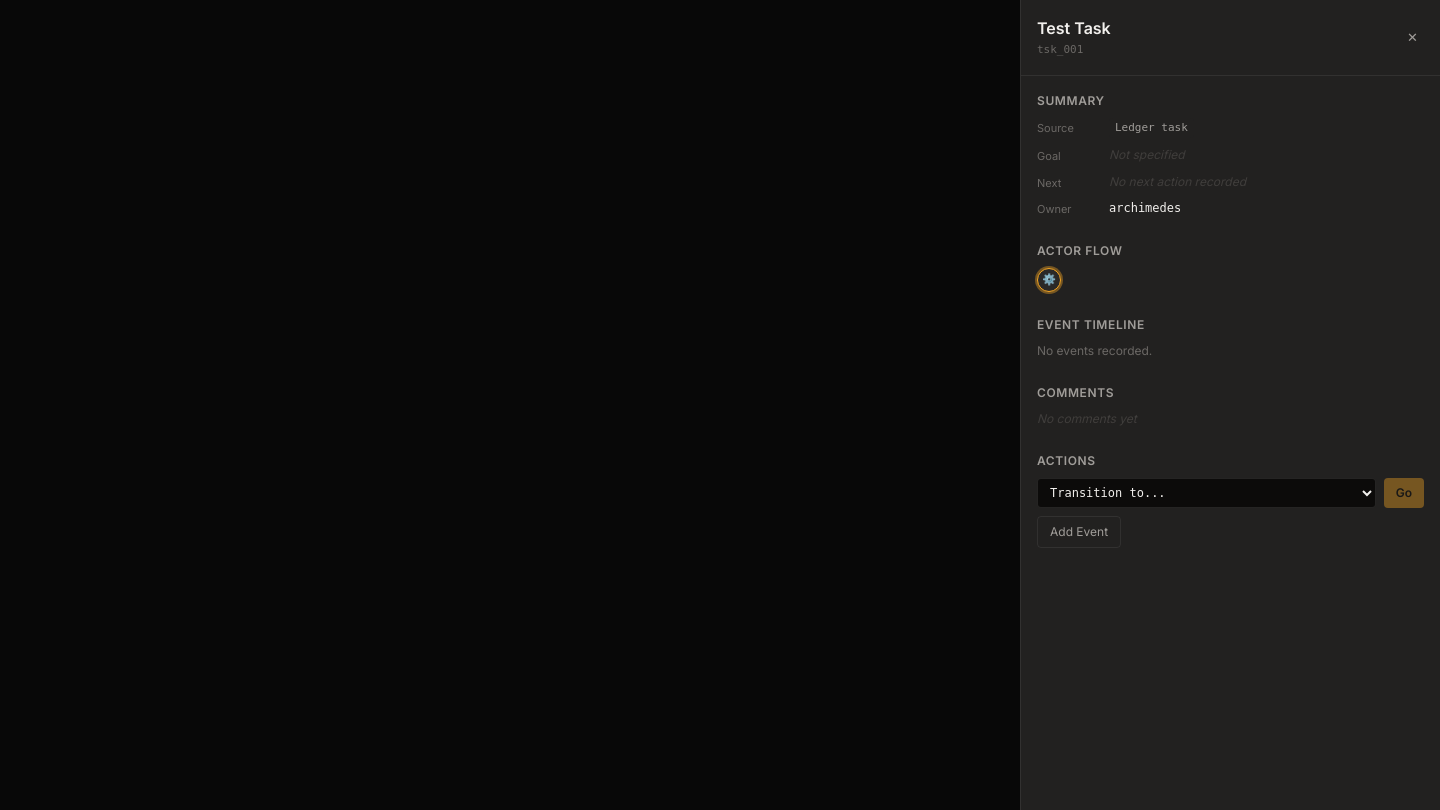
Test: TaskDetail Add Event › shows error and keeps textarea open on failure
Click the button "Add Event" at (1079, 532), box [1037, 516, 1121, 548]
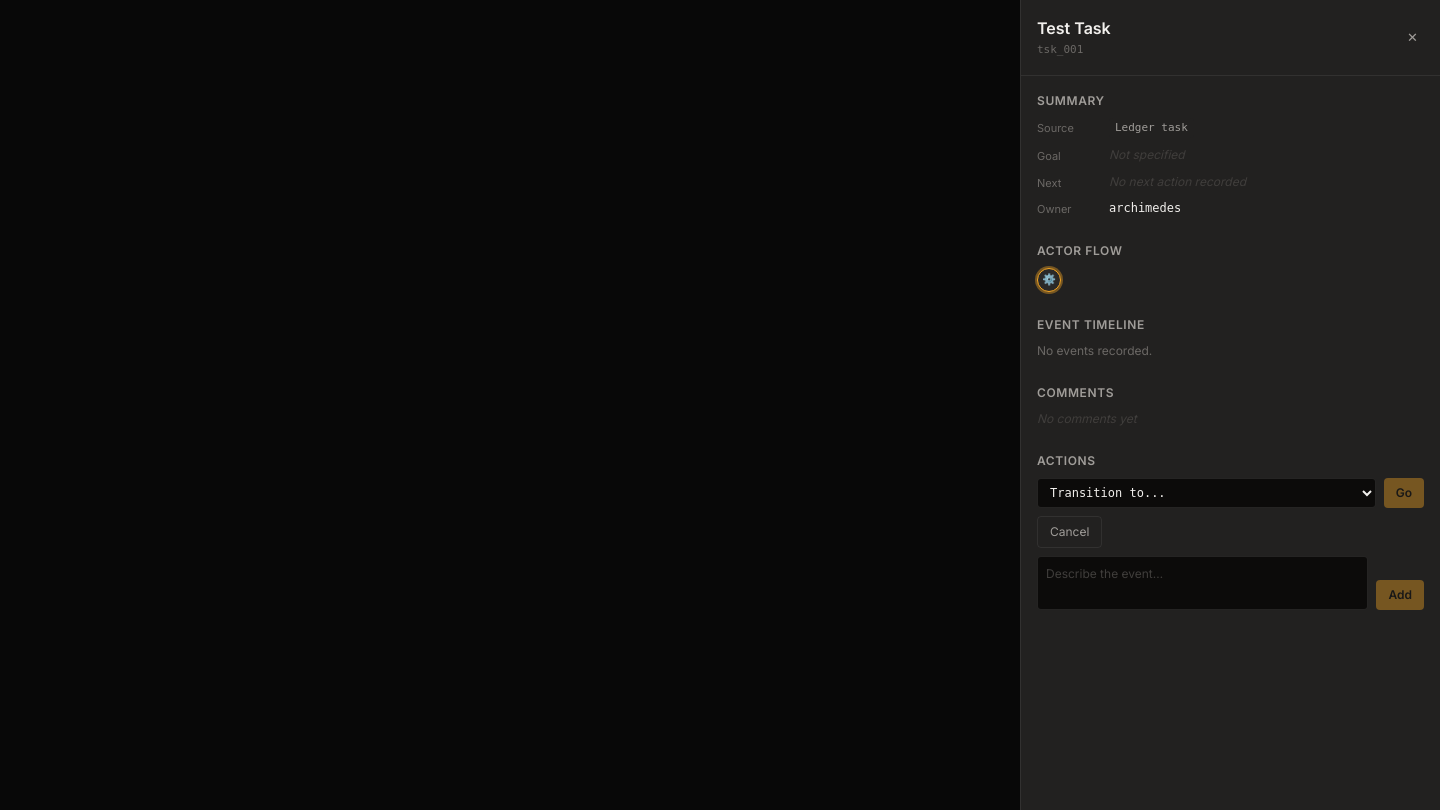
Type "Will fail" into the text box with placeholder "Describe the event…" at (1203, 582), box [1037, 556, 1368, 610]
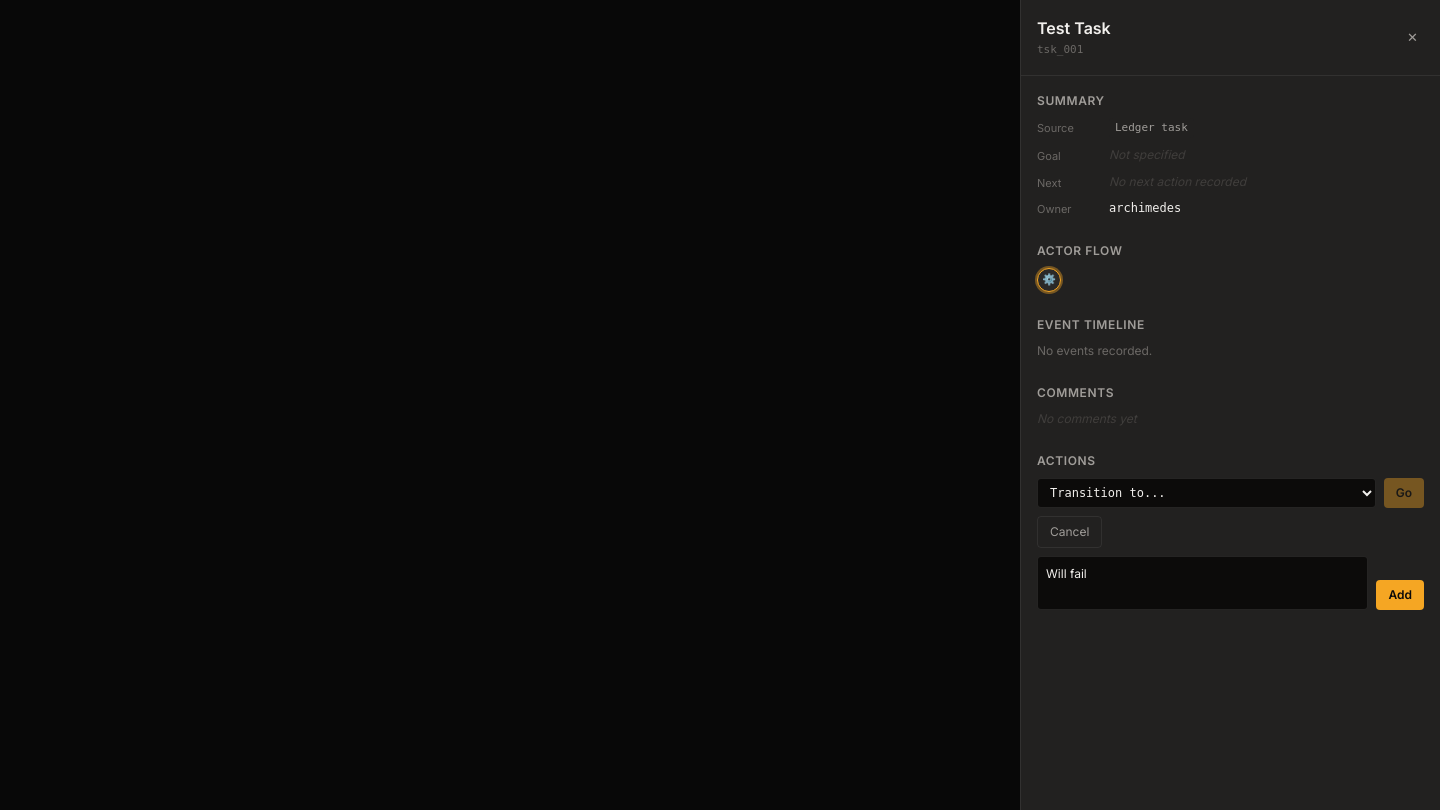
Click the button "Add" at (1400, 594), box [1376, 580, 1424, 610]
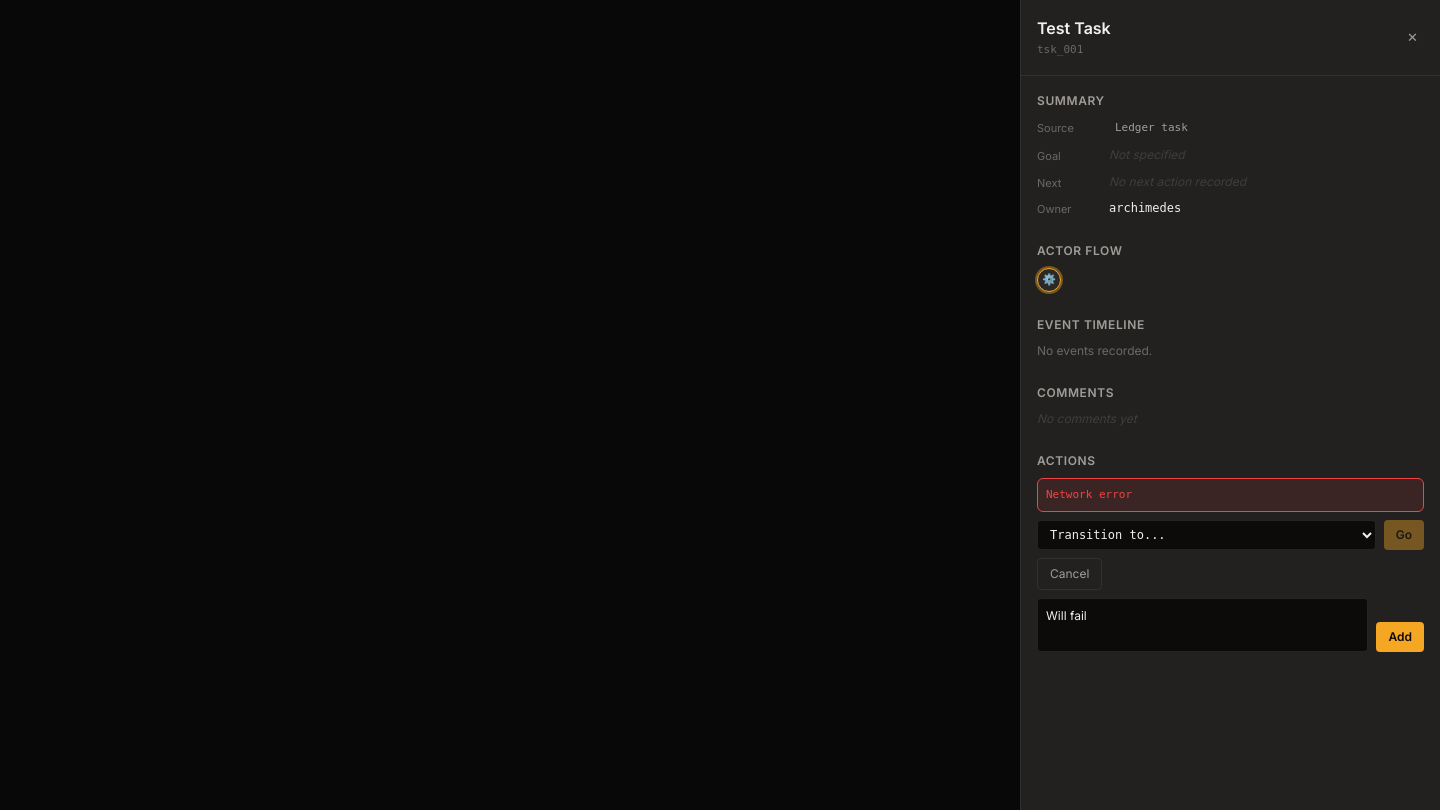
Expected: the text "Network error" is shown, [1037, 478, 1424, 512]
